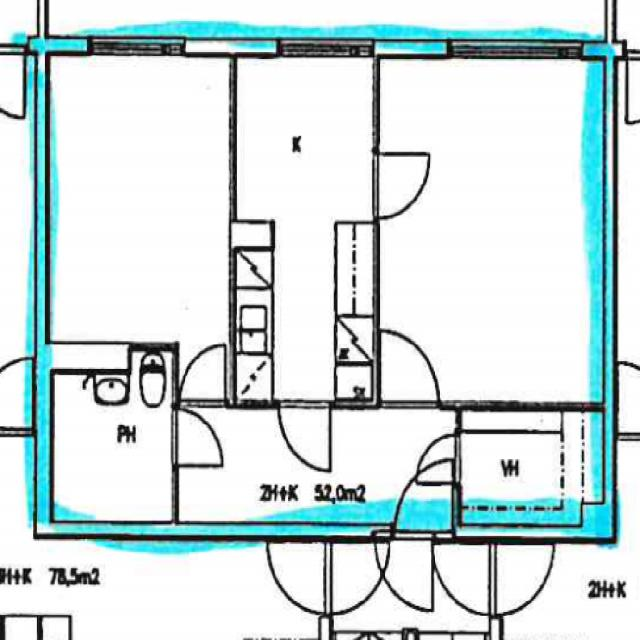door: (381, 330, 438, 409), (394, 530, 451, 609), (394, 459, 451, 538), (372, 154, 430, 218), (279, 401, 330, 472), (180, 344, 226, 409), (172, 410, 222, 465), (416, 435, 460, 482)
